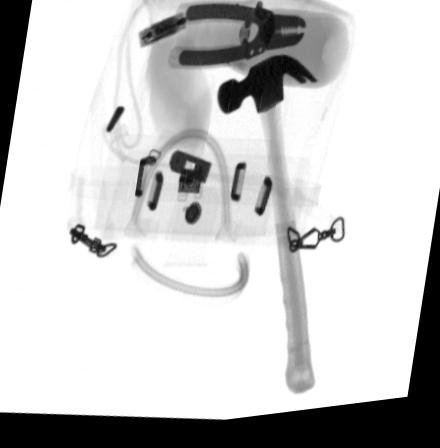Hammer: (215, 60, 316, 403)
Pliers: (166, 4, 304, 75)
